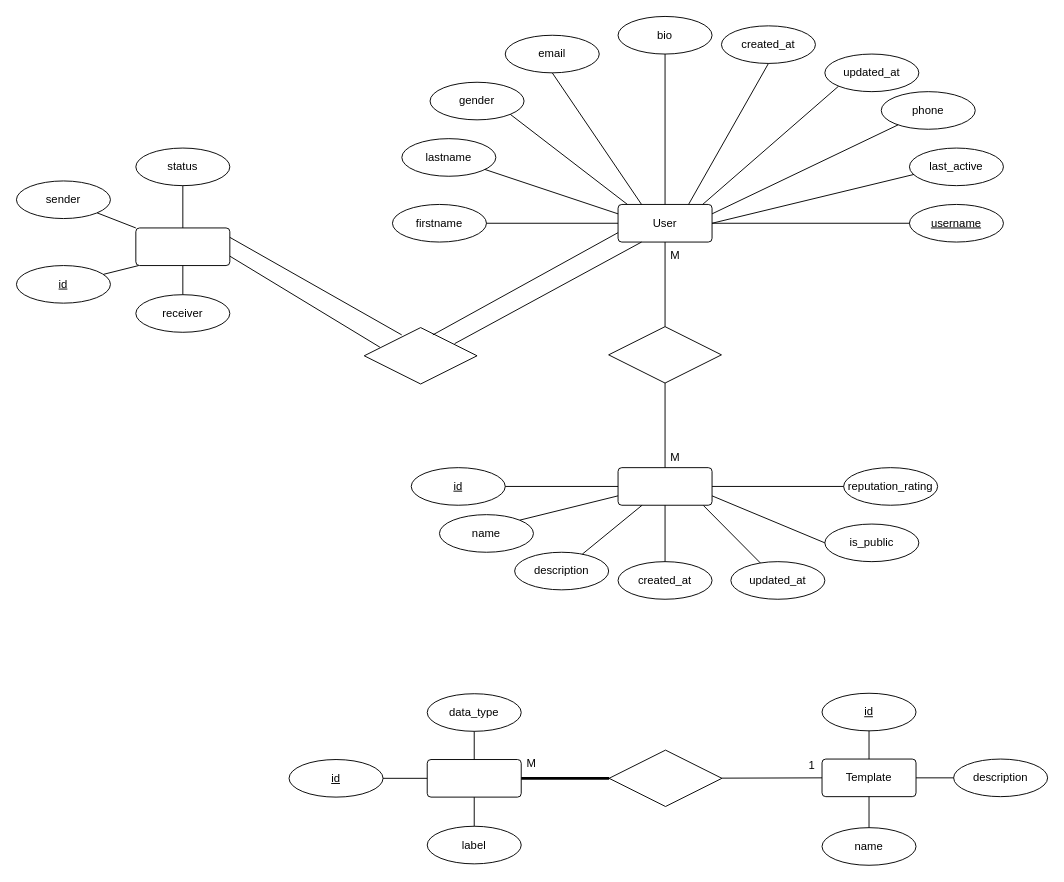
The diagram is 1064 pixels wide and 882 high, and some of its shapes have lost their labels. Each missing label, with the centre of its shape:
Community: (664,486)
Field: (473,778)
Invitation: (182,246)
Invites: (420,355)
Is_Composed_Of: (665,778)
Joins: (664,354)
